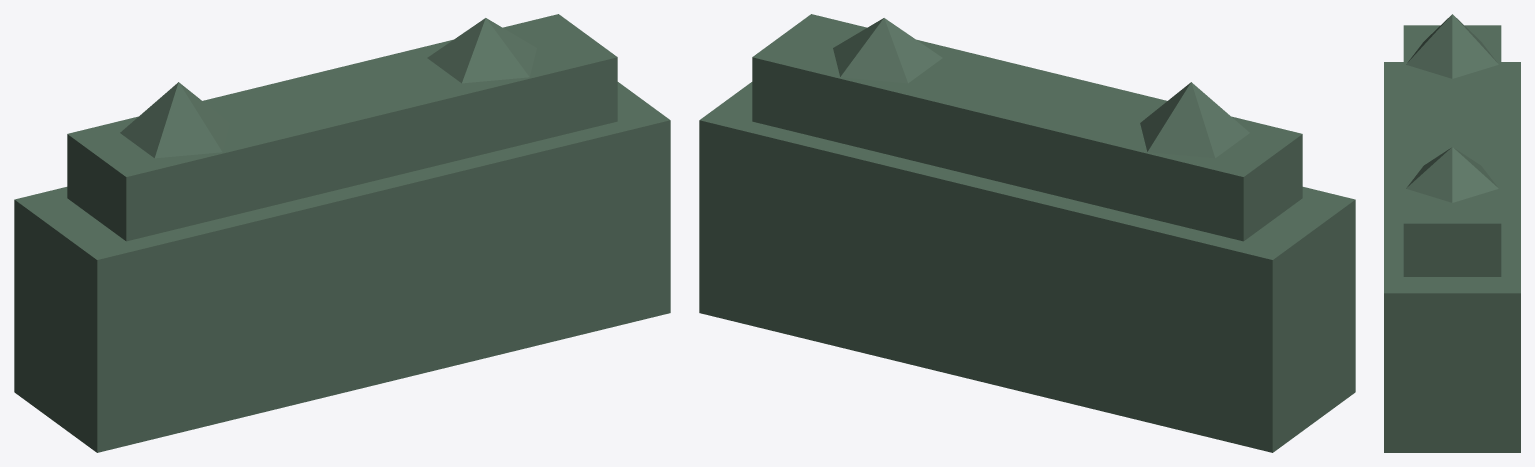
Rendered from hedge.glb.
The picture shows the model from 3 angles, left to right: view 1: azimuth 30°, elevation 25°; view 2: azimuth 150°, elevation 25°; view 3: azimuth 270°, elevation 25°; orthographic projection. The views are drawn at different scales.
Parts seen in each view (by area): view 1: hedge; view 2: hedge; view 3: hedge.
Boxes of the visible parts, x1,y1,x2,y2 form: hedge: (14, 14, 670, 452); hedge: (699, 14, 1355, 452); hedge: (1384, 14, 1520, 452).
Bounding box in the file's own units: 2.8 × 1.45 × 0.7.
